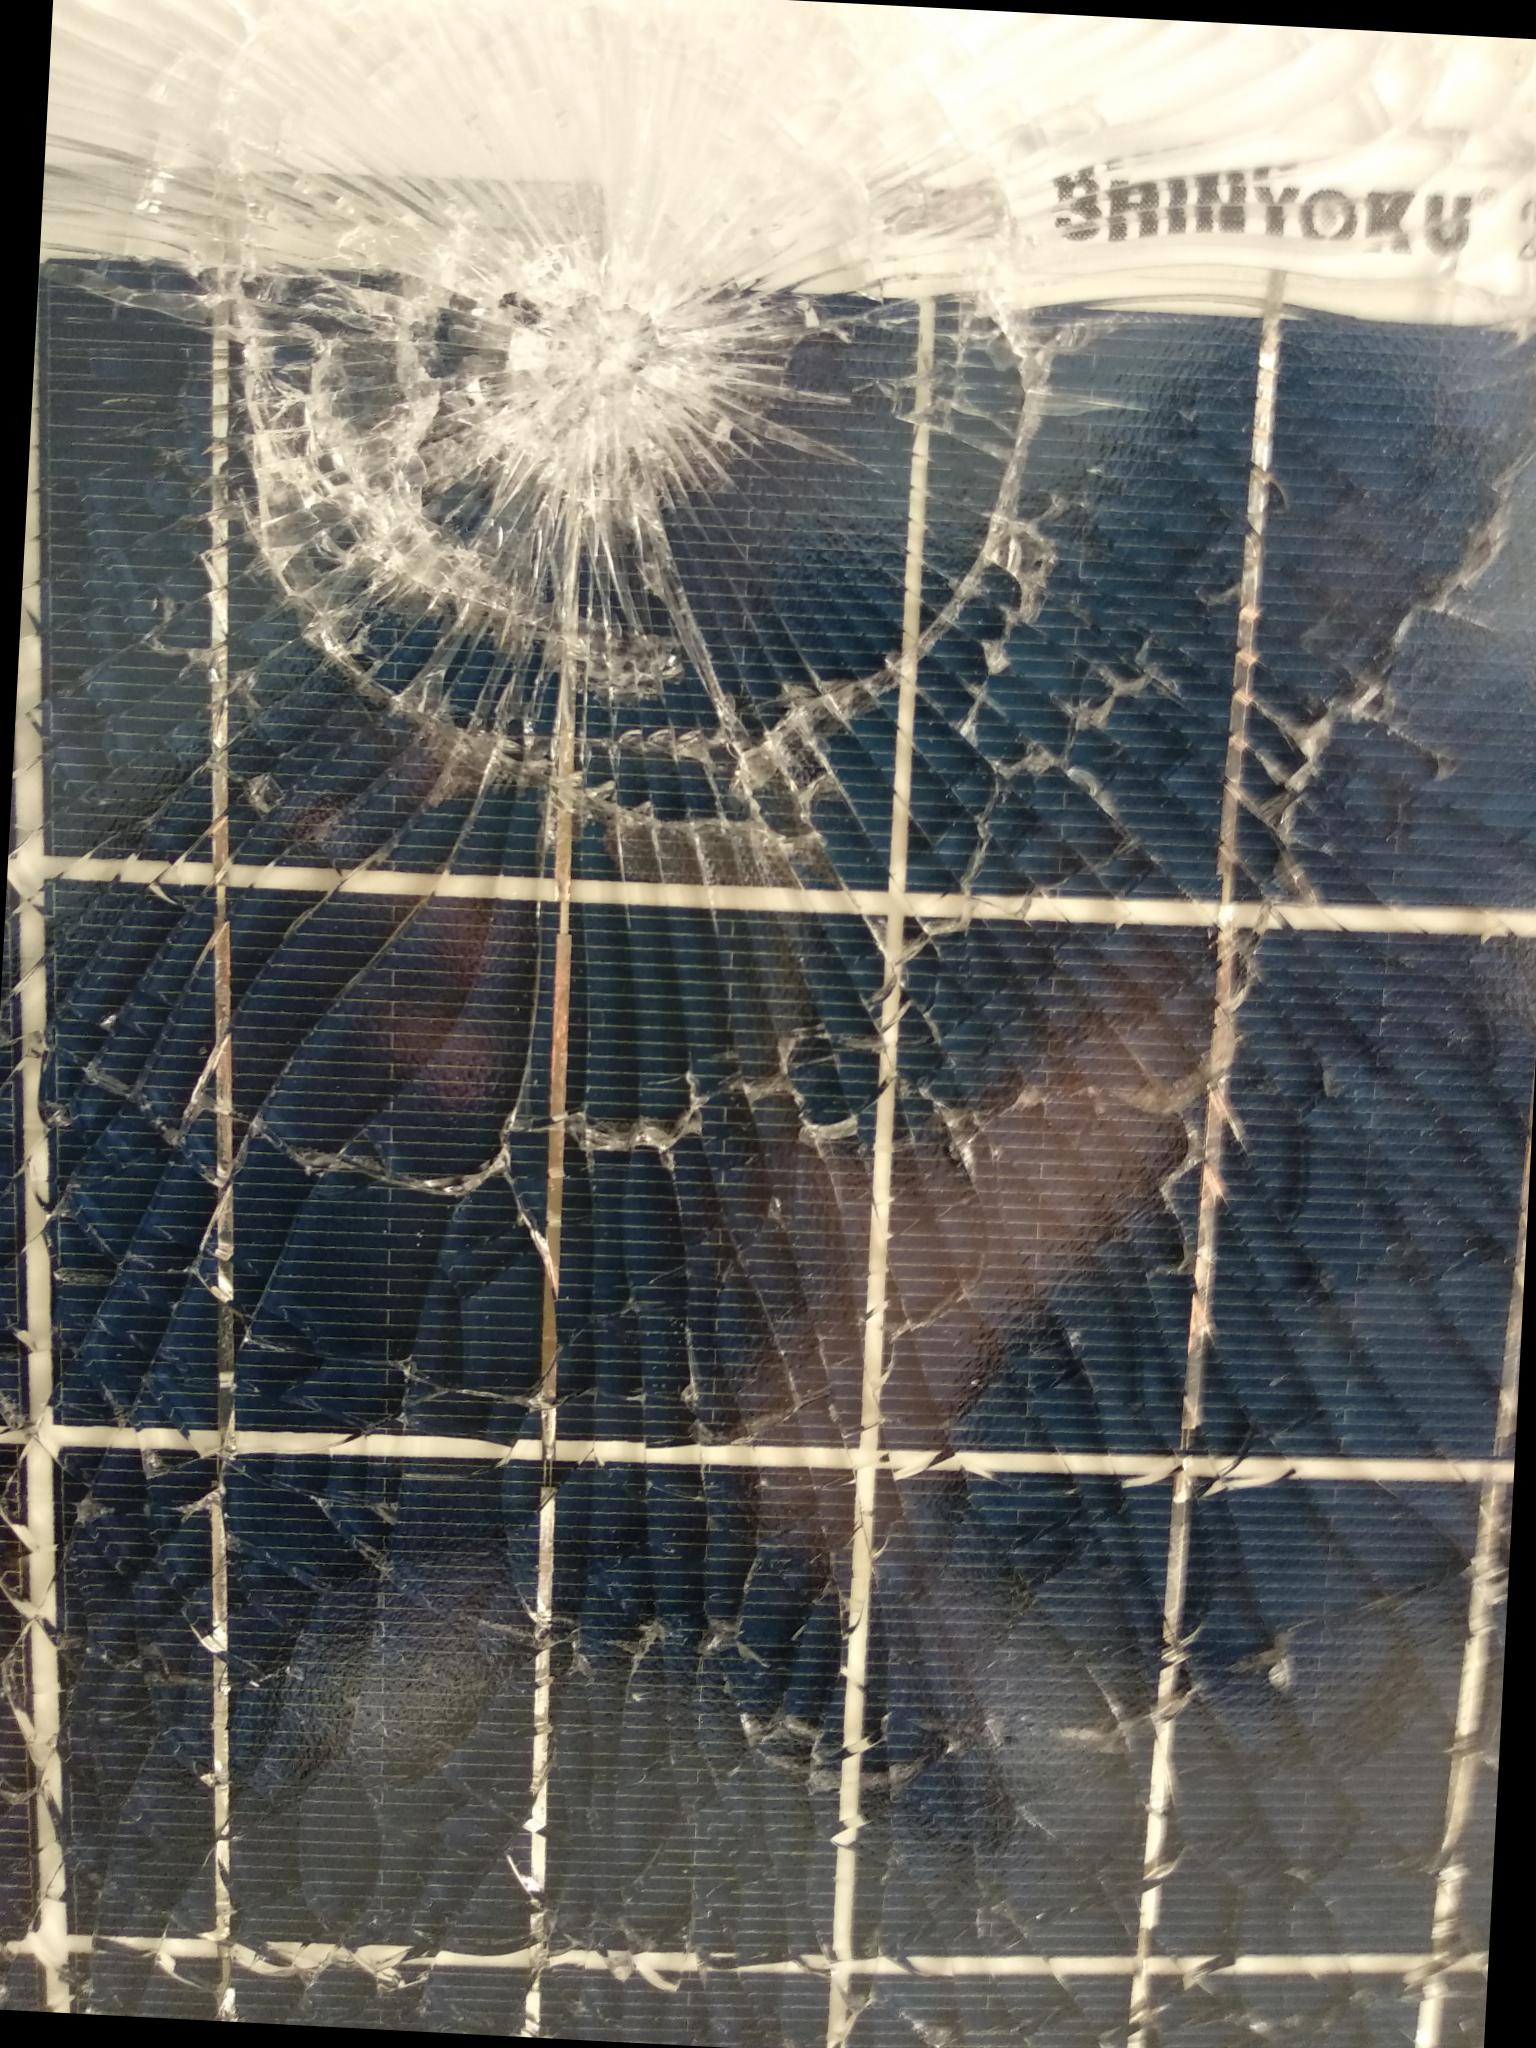Crack: (103, 3, 1039, 932)
